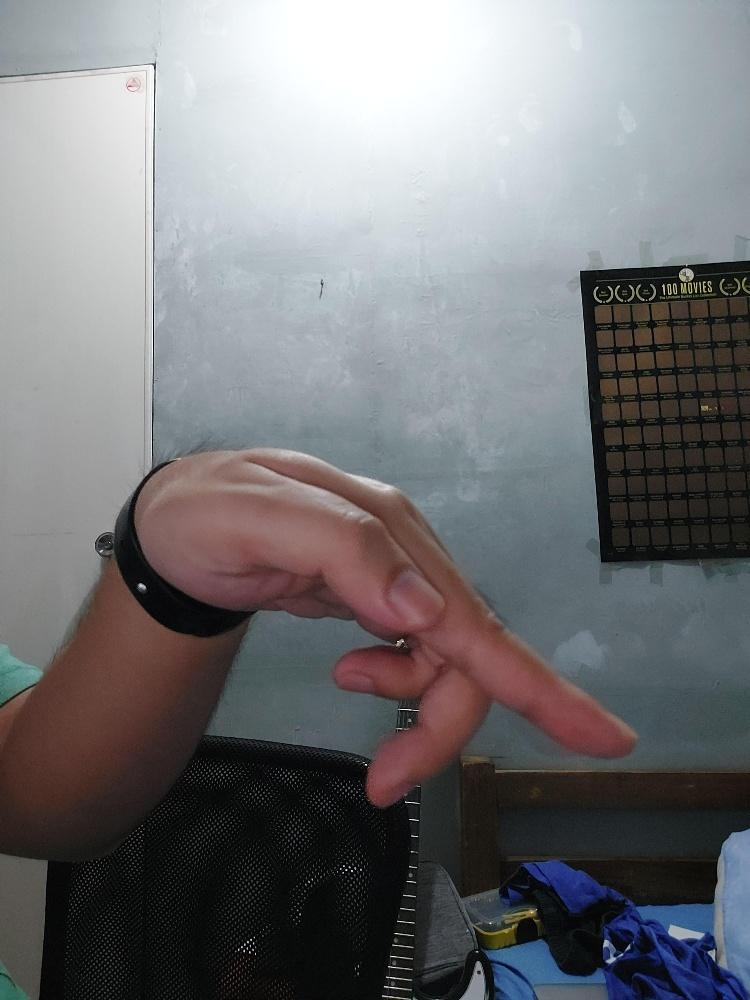p: (113, 445, 634, 810)
